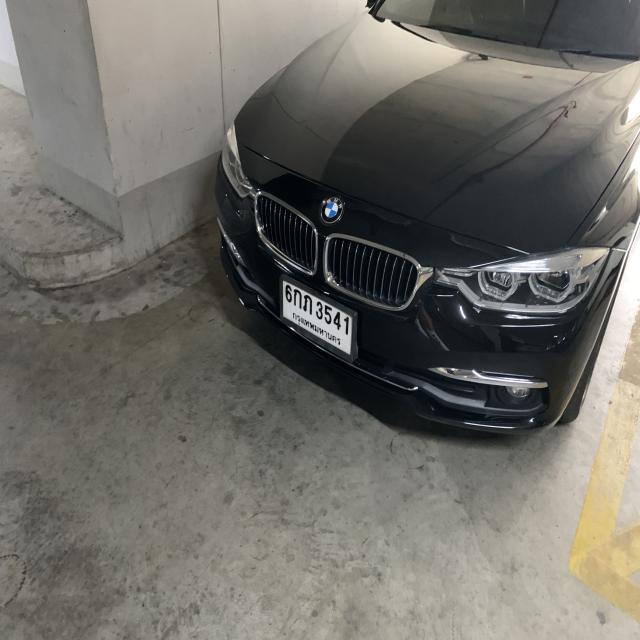license_plate: (278, 271, 358, 366)
